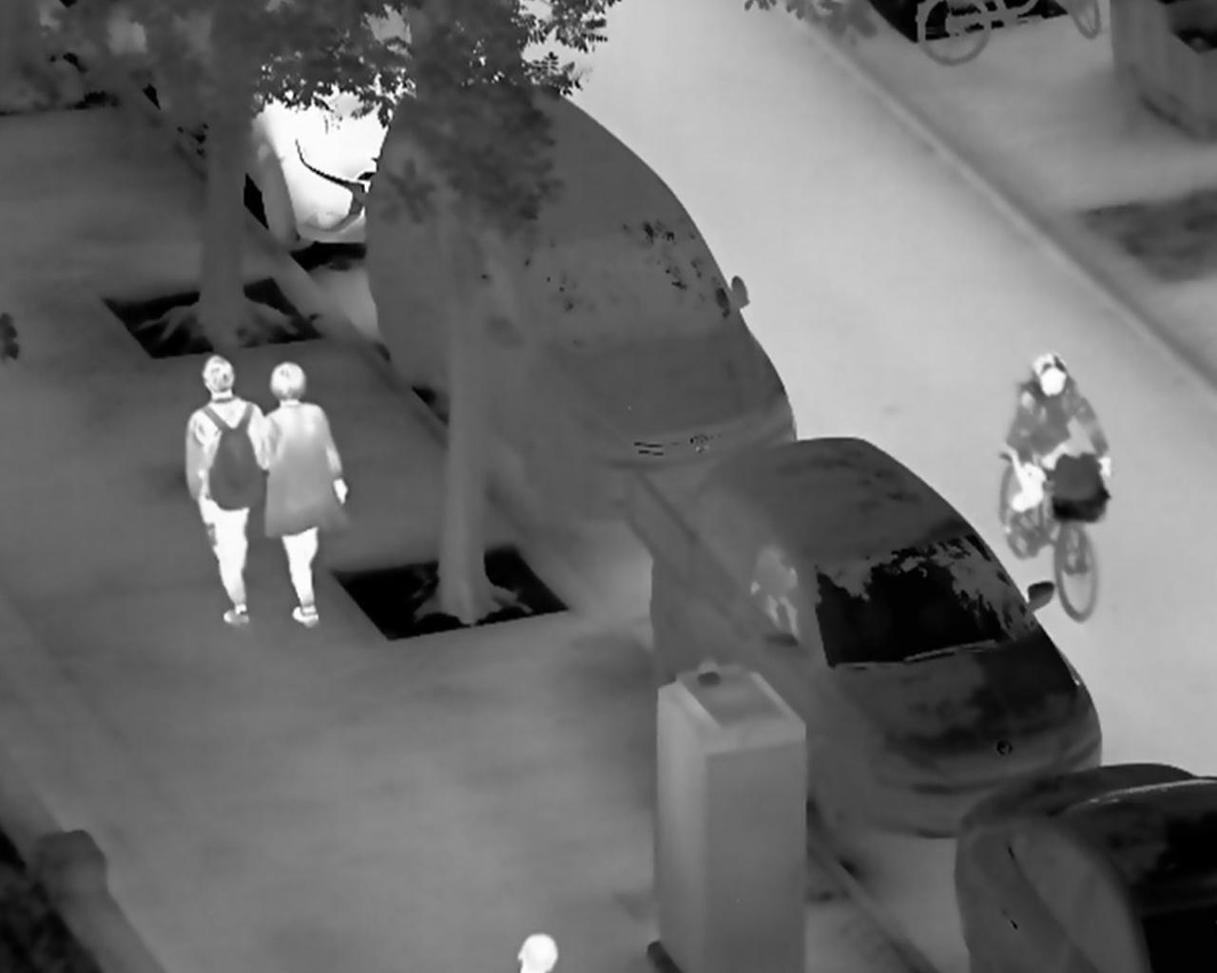person: (182, 353, 272, 624), (264, 360, 348, 629), (1000, 350, 1114, 539)
